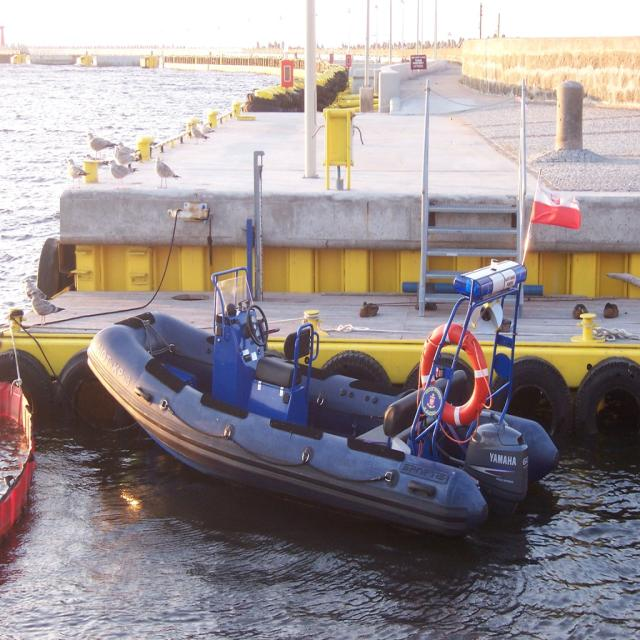Boat: (69, 254, 543, 540)
